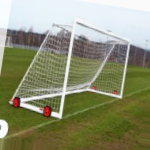goals: (10, 19, 131, 120)
